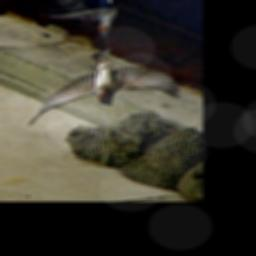Swallow: (25, 45, 185, 128)
